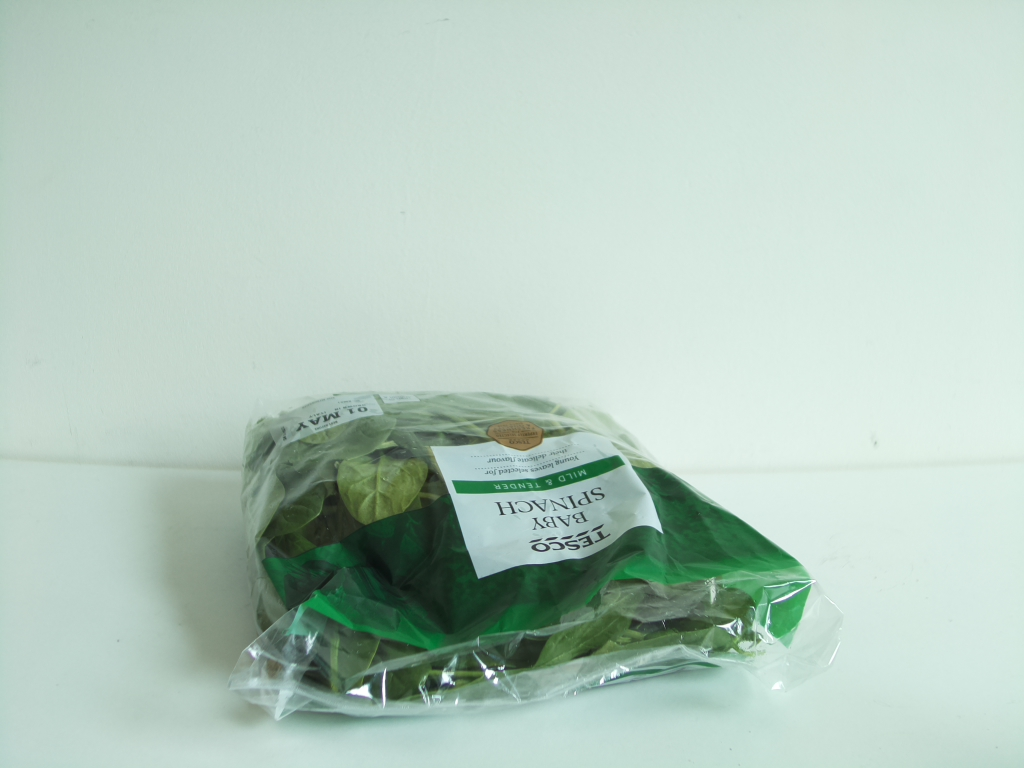salad: (240, 389, 847, 721)
